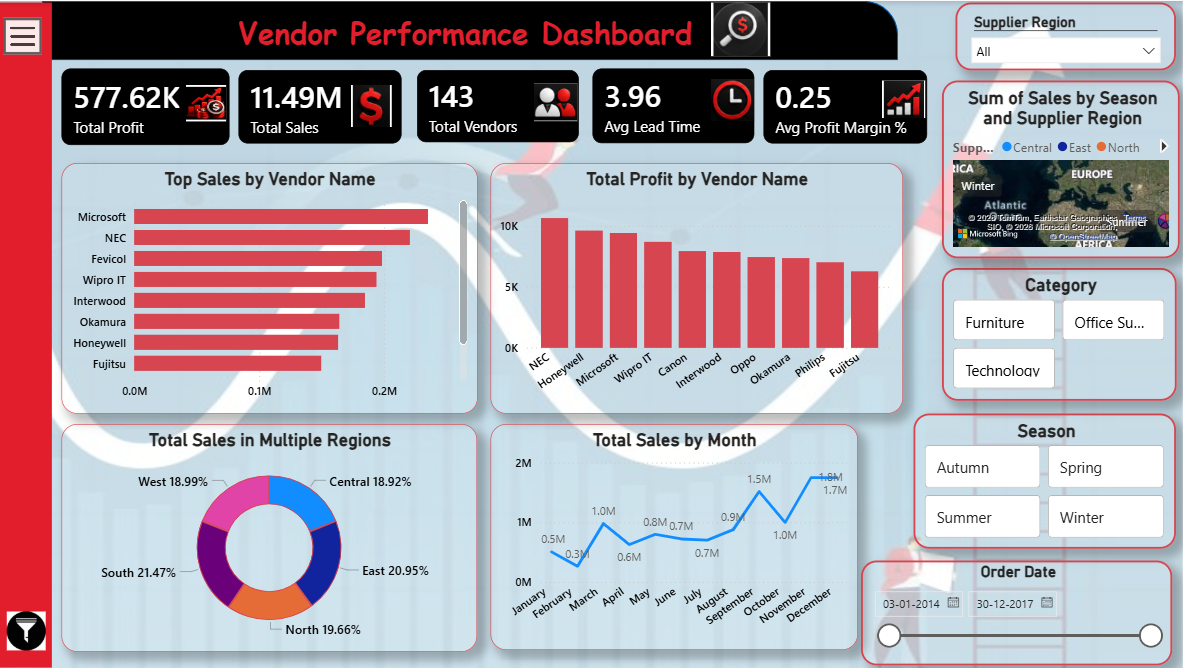

Layout of this report page (visuals, bound fields, positions):
{"tool":"powerbi","page":{"name":"Overview","canvas":[1280,720],"ordinal":0},"visuals":[{"type":"actionButton","title":"Menu","box":[4,18,42,40],"z":0,"group":"g1"},{"type":"cardVisual","fields":{"Data":["vendor_superstore.Total Sales"]},"box":[258.2,75,176,79.3],"z":0},{"type":"cardVisual","fields":{"Data":["vendor_superstore.Total Vendors"]},"box":[449.4,74.7,174.9,77.7],"z":1000},{"type":"image","title":"Filter","box":[0,660,56,42],"z":1000,"group":"g1"},{"type":"cardVisual","fields":{"Data":["vendor_superstore.Avg Lead Time"]},"box":[639.6,73.2,174.9,81],"z":2000},{"type":"cardVisual","fields":{"Data":["vendor_superstore.Avg Profit Margin %"]},"box":[824.2,74.5,176.5,79.3],"z":3000},{"type":"actionButton","title":"Closebutton","box":[62,14,54,46],"z":4000},{"type":"clusteredBarChart","title":"Top Sales by Vendor Name","fields":{"Category":["vendor_superstore.Vendor Name"],"Y":["vendor_superstore.Total Sales"]},"box":[66.7,174.5,449.1,270.6],"z":5000},{"type":"columnChart","fields":{"Y":["vendor_superstore.Total Profit"],"Category":["vendor_superstore.Vendor Name"]},"box":[529.5,174.5,445.2,270.6],"z":6000},{"type":"lineChart","fields":{"Category":["vendor_superstore.Order Date.Variation.Date Hierarchy.Month"],"Y":["vendor_superstore.Total Sales"]},"box":[528.9,456.3,396.7,244],"z":7000},{"type":"slicer","title":"Supplier Region","fields":{"Values":["vendor_superstore.Supplier Region"]},"box":[1031.8,1.9,238.1,73],"z":8000},{"type":"advancedSlicerVisual","fields":{"Values":["vendor_superstore.Season"]},"box":[986.5,445,283.5,146],"z":9000},{"type":"advancedSlicerVisual","fields":{"Values":["vendor_superstore.Category"]},"box":[1016.8,288,253.3,143.4],"z":10000},{"type":"donutChart","fields":{"Category":["vendor_superstore.Supplier Region"],"Y":["Sum(vendor_superstore.Sales)"]},"box":[67,456.3,448.8,245.8],"z":11000},{"type":"shape","box":[46,0,924,64],"z":12000},{"type":"slicer","title":"Order Date","fields":{"Values":["vendor_superstore.Order Date"]},"box":[929.3,603.4,336,113.6],"z":13000},{"type":"cardVisual","fields":{"Data":["vendor_superstore.Total Profit"]},"box":[66.4,72.9,181.4,82.6],"z":14000},{"type":"image","box":[200,90.2,43.1,39.2],"z":14500},{"type":"shape","box":[0,2,56,718],"z":16000},{"type":"map","fields":{"Category":["vendor_superstore.Season"],"Size":["Sum(vendor_superstore.Sales)"],"Series":["vendor_superstore.Supplier Region"]},"box":[1016.8,86,257,191.8],"z":17000},{"type":"group","id":"g1","title":"Menu bar","box":[0,18,56,684],"z":18000},{"type":"image","box":[767.5,84.2,47,45.3],"z":19000},{"type":"image","box":[952.1,85.8,47,40.5],"z":20000},{"type":"image","box":[378.9,90.7,43.7,45.3],"z":21000},{"type":"image","box":[576.4,89.1,47,40.5],"z":22000},{"type":"image","box":[767.3,1.9,65.2,57.7],"z":23000}]}

Visuals, with their boxes in screenshot pixels (x1, y1, x2, y2), scaled from the page's 1280x720 canvas onto the 1183x668 screenshot:
"Menu" actionButton: box(4, 17, 43, 54)
cardVisual - vendor_superstore.Total Sales: box(239, 70, 401, 143)
cardVisual - vendor_superstore.Total Vendors: box(415, 69, 577, 141)
"Filter" image: box(0, 612, 52, 651)
cardVisual - vendor_superstore.Avg Lead Time: box(591, 68, 753, 143)
cardVisual - vendor_superstore.Avg Profit Margin %: box(762, 69, 925, 143)
"Closebutton" actionButton: box(57, 13, 107, 56)
"Top Sales by Vendor Name" clusteredBarChart: box(62, 162, 477, 413)
columnChart - vendor_superstore.Total Profit x vendor_superstore.Vendor Name: box(489, 162, 901, 413)
lineChart - vendor_superstore.Order Date.Variation.Date Hierarchy.Month x vendor_superstore.Total Sales: box(489, 423, 855, 650)
"Supplier Region" slicer: box(954, 2, 1174, 69)
advancedSlicerVisual - vendor_superstore.Season: box(912, 413, 1174, 548)
advancedSlicerVisual - vendor_superstore.Category: box(940, 267, 1174, 400)
donutChart - vendor_superstore.Supplier Region x Sum(vendor_superstore.Sales): box(62, 423, 477, 651)
shape: box(43, 0, 896, 59)
"Order Date" slicer: box(859, 560, 1169, 665)
cardVisual - vendor_superstore.Total Profit: box(61, 68, 229, 144)
image: box(185, 84, 225, 120)
shape: box(0, 2, 52, 667)
map - vendor_superstore.Season x Sum(vendor_superstore.Sales): box(940, 80, 1177, 258)
"Menu bar" group: box(0, 17, 52, 651)
image: box(709, 78, 753, 120)
image: box(880, 80, 923, 117)
image: box(350, 84, 391, 126)
image: box(533, 83, 576, 120)
image: box(709, 2, 769, 55)
